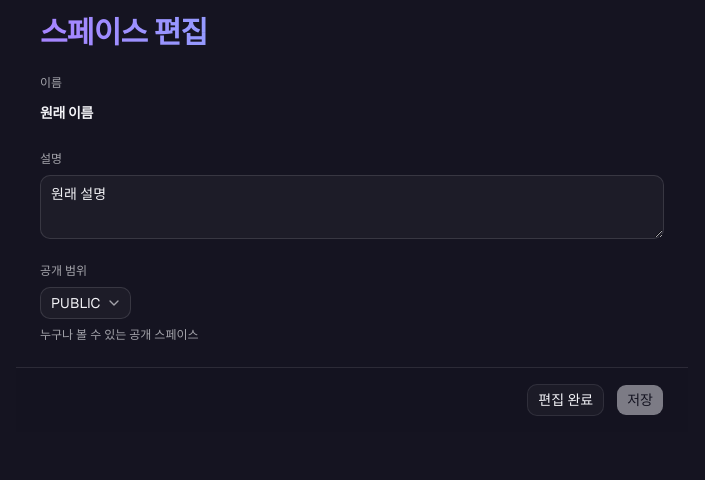
Test case: SpaceEditView › 저장 실패 시 백엔드 message 가 alert 로 노출된다
This screenshot has width=705, height=480.
Replace the text in the field showing "원래 이름" with "중복 이름". click: (352, 113)
box: [40, 99, 664, 127]
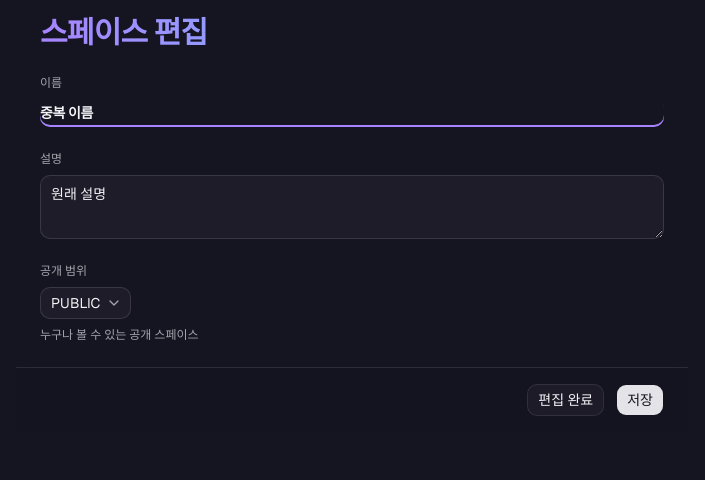
Click the button "저장". click: (640, 400)
box: [616, 384, 664, 416]
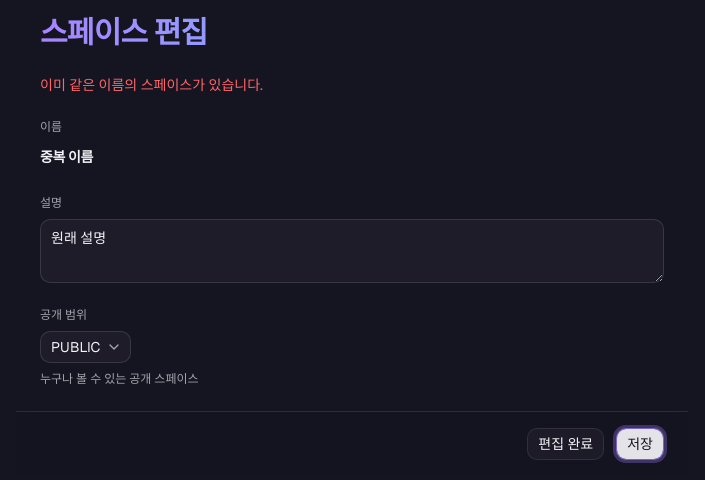
Check: the message reads "이미 같은 이름의 스페이스가 있습니다.", box [40, 76, 263, 94]
